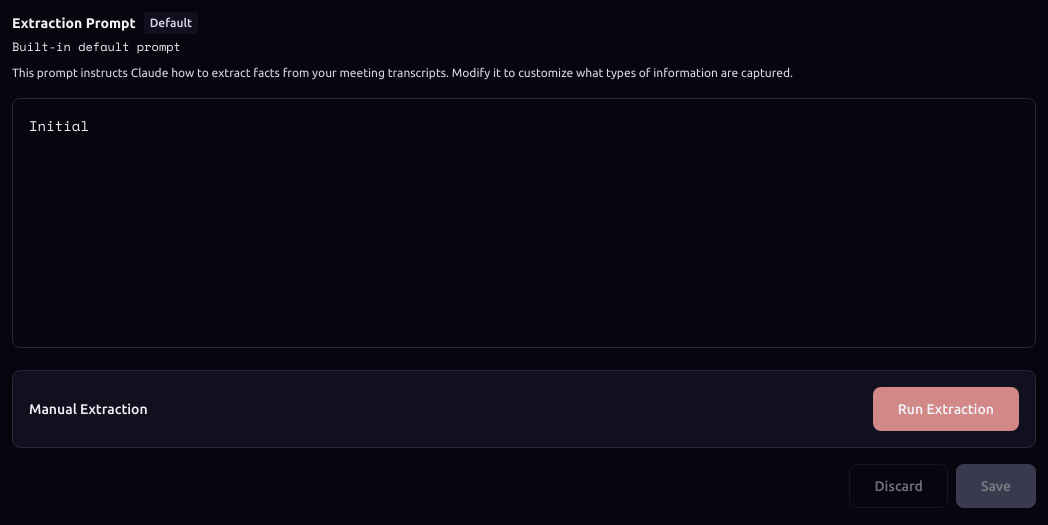
Scenario: ExtractionPromptEditor › saving › shows 'Saving...' while save is in progress
// Edit content
Replace the text in the text box with "New content" at point(524, 223), box [12, 98, 1036, 348]
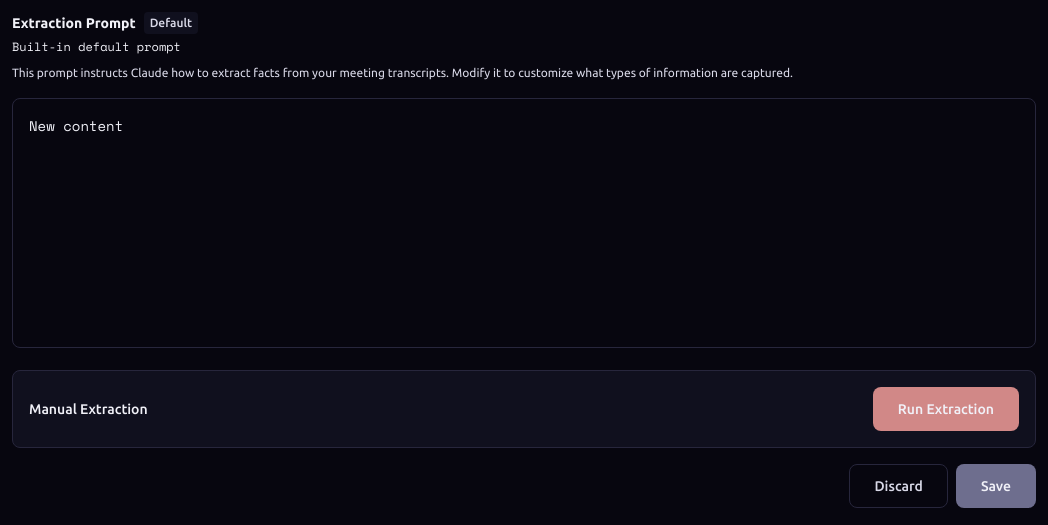
// Click save
Click the button "Save" at point(996, 486), box [956, 464, 1036, 508]
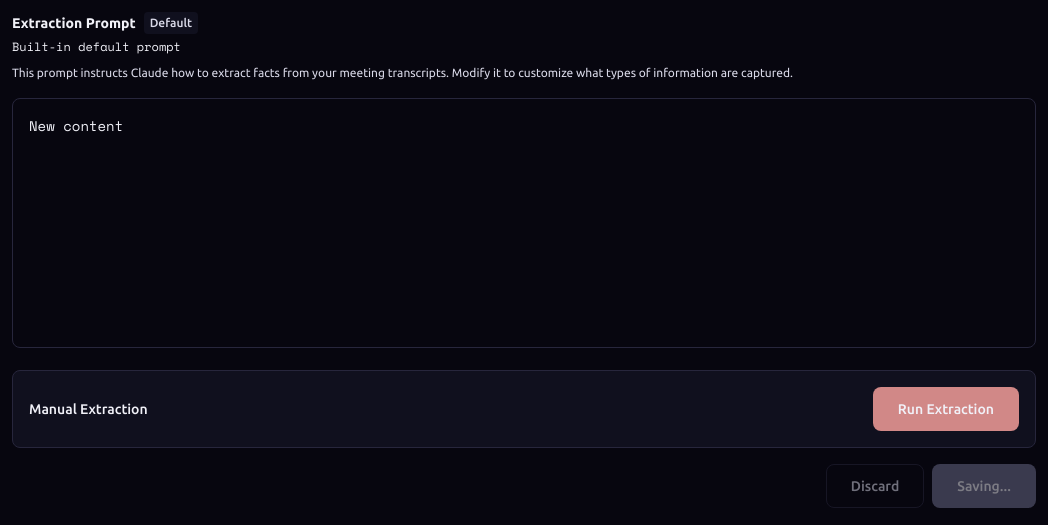
Expected: the button "Saving..." is shown, [932, 464, 1036, 508]
